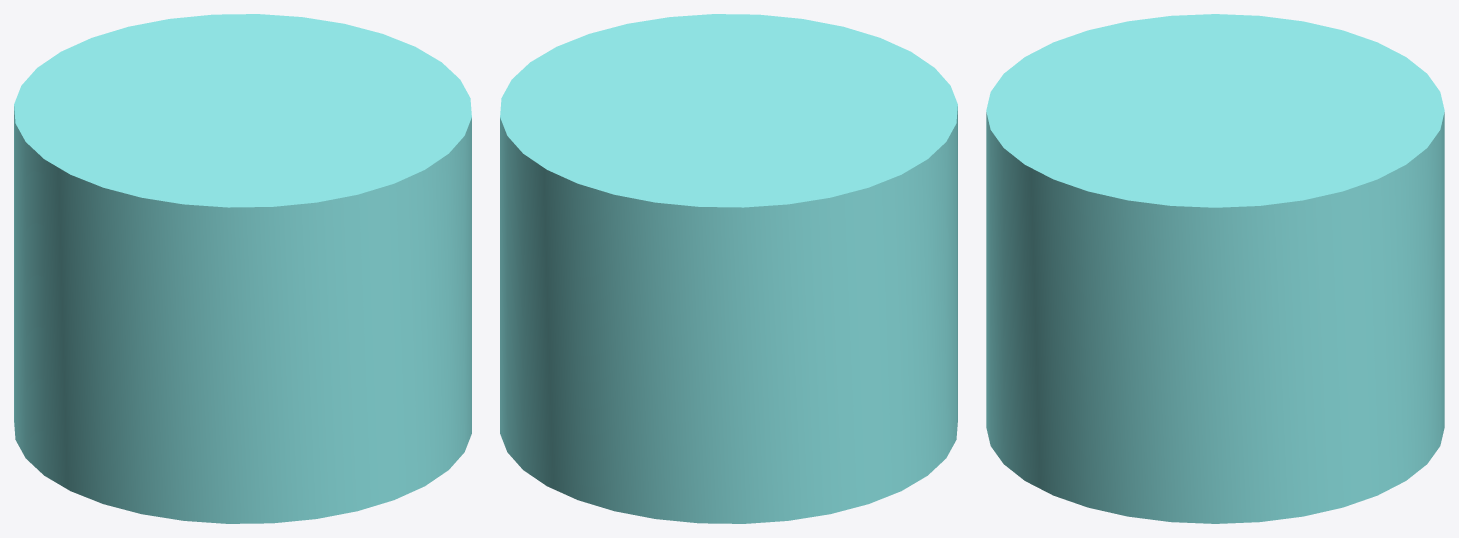
File: EM_GlowPlasmaCore.obj
3 views of the same model, side by side, from view 1: azimuth 30°, elevation 25°; view 2: azimuth 150°, elevation 25°; view 3: azimuth 270°, elevation 25° (orthographic).
Parts seen in each view (by area): view 1: EM_GlowPlasmaCore; view 2: EM_GlowPlasmaCore; view 3: EM_GlowPlasmaCore.
Part boxes in pixels (x1,y1,x2,y2): EM_GlowPlasmaCore: (14,14,471,523); EM_GlowPlasmaCore: (500,14,957,523); EM_GlowPlasmaCore: (986,14,1444,523).
Size of the model in its own units: 0.92 by 0.7 by 0.92.
